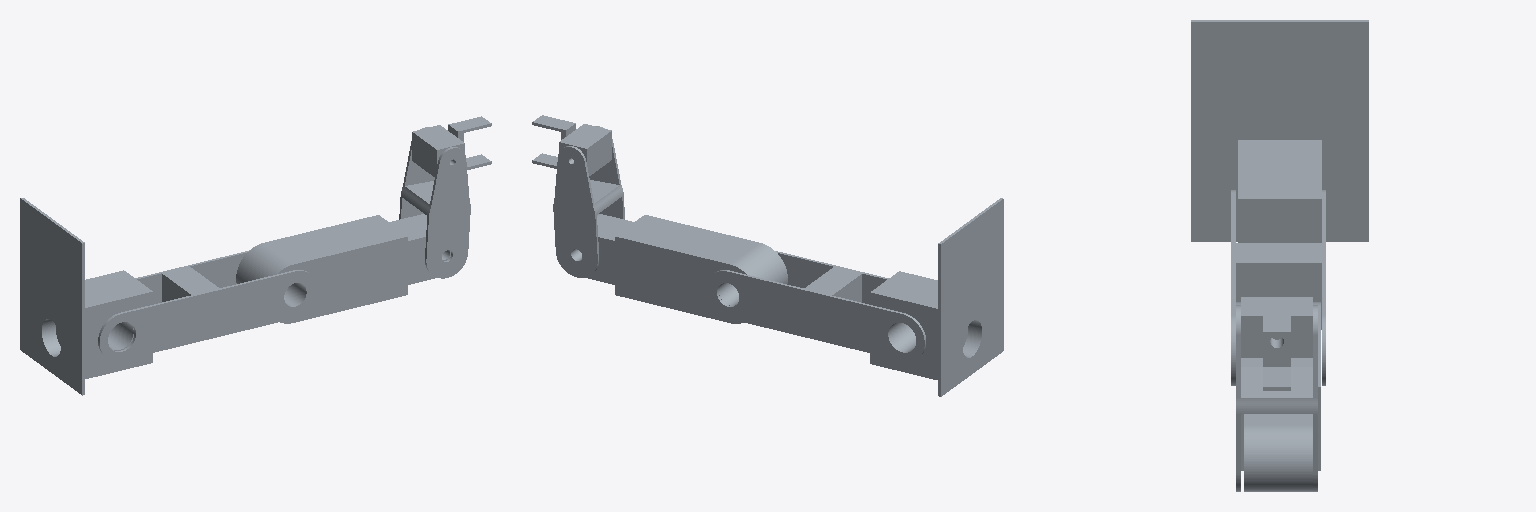
robot.urdf — Robot:
<?xml version="1.0" ?>
<robot name="Robot">
  <!--Generated by RobotCAD, a ROS Workbench for FreeCAD (https://github.com/drfenixion/freecad.robotcad)-->
  <link name="l_Claw001">
    <visual>
      <!--Claw001/Claw001.-->
      <origin rpy="3.141592653589793 0 -3.141592653589787" xyz="-0.674 0.009 0.0975"/>
      <geometry>
        <mesh filename="package://urdf_export/meshes/arm_cad_claw_d60vqu.dae"/>
      </geometry>
    </visual>
    <collision>
      <!--col__l_Claw001__col_Claw__BoundBox/col_Claw__BoundBox.-->
      <origin rpy="0 0 0" xyz="0.1245 0.1 0.1"/>
      <geometry>
        <box size="0.061 0.030000000000000013 0.07"/>
      </geometry>
    </collision>
  </link>
  <link name="l_Link006">
    <visual>
      <!--Link006/Link006.-->
      <origin rpy="-1.6032785969570524 1.5707963267948897 1.538314056632741" xyz="-0.0025 0.091 -0.768"/>
      <geometry>
        <mesh filename="package://urdf_export/meshes/arm_cad_link5_wauaem.dae"/>
      </geometry>
    </visual>
    <collision>
      <!--col__l_Link006__col_Link5__BoundBox/col_Link5__BoundBox.-->
      <origin rpy="3.141592653589793 0 0" xyz="0.0 0.0 -0.025"/>
      <geometry>
        <box size="0.078 0.05000000000000002 0.050000000000000114"/>
      </geometry>
    </collision>
  </link>
  <link name="l_Link008">
    <visual>
      <!--Link008/Link007.-->
      <origin rpy="3.141592653589793 0 0.06108652381981116" xyz="0.736059 0.136189 0.0365"/>
      <geometry>
        <mesh filename="package://urdf_export/meshes/arm_cad_link4_wqzhg2.dae"/>
      </geometry>
    </visual>
    <collision>
      <!--col__l_Link008__col_Link4__BoundBox/col_Link4__BoundBox.-->
      <origin rpy="1.5707963267948968 0 0" xyz="0.0855973 0.00744015 0.039"/>
      <geometry>
        <box size="0.21919360070894503 0.088 0.07941104040710273"/>
      </geometry>
    </collision>
  </link>
  <link name="l_Link010">
    <visual>
      <!--Link010/Link008.-->
      <origin rpy="3.1415926535897927 0 1.5707963267949039" xyz="-0.091 0.585 -0.0385"/>
      <geometry>
        <mesh filename="package://urdf_export/meshes/arm_cad_link3_m8x0cv.dae"/>
      </geometry>
    </visual>
    <collision>
      <!--col__l_Link010__col_Link3__BoundBox/col_Link3__BoundBox.-->
      <origin rpy="-1.5707963267948966 -1.570796326794896 0" xyz="0.0 0.0162571 -0.0375"/>
      <geometry>
        <box size="0.075 0.075 0.10748576151343571"/>
      </geometry>
    </collision>
  </link>
  <link name="l_Link012">
    <visual>
      <!--Link012/Link009.-->
      <origin rpy="-1.5375969808478827 1.57079632679489 -1.5375969808478827" xyz="0.001 -0.091 -0.515"/>
      <geometry>
        <mesh filename="package://urdf_export/meshes/arm_cad_link2_1eqjgf.dae"/>
      </geometry>
    </visual>
    <collision>
      <!--col__l_Link012__col_Link2__BoundBox/col_Link2__BoundBox.-->
      <origin rpy="3.141592653589787 0 0" xyz="0.0 0.0 -0.1275"/>
      <geometry>
        <box size="0.092 0.1 0.25500000000000034"/>
      </geometry>
    </collision>
  </link>
  <link name="l_Link014">
    <visual>
      <!--Link014/Link010.-->
      <origin rpy="-3.141592653589793 0 1.5707963267948963" xyz="-0.091 0.31 -0.0475"/>
      <geometry>
        <mesh filename="package://urdf_export/meshes/arm_cad_link1_kmxu8b.dae"/>
      </geometry>
    </visual>
    <collision>
      <!--col__l_Link014__col_Link1__BoundBox/col_Link1__BoundBox.-->
      <origin rpy="-1.570796326794897 -1.5707963267948966 0" xyz="0.0 0.155008 -0.04625"/>
      <geometry>
        <box size="0.1025 0.08 0.389984812280998"/>
      </geometry>
    </collision>
  </link>
  <link name="l_Link016">
    <visual>
      <!--Link016/Link011.-->
      <origin rpy="0 0 0" xyz="0.0 -0.091 -0.045"/>
      <geometry>
        <mesh filename="package://urdf_export/meshes/arm_cad_link0_hxjlaj.dae"/>
      </geometry>
    </visual>
    <collision>
      <!--col__l_Link016__col_Link0__BoundBox/col_Link0__BoundBox.-->
      <origin rpy="0 0 0" xyz="0.0 -0.0155 -0.045"/>
      <geometry>
        <box size="0.12200000000000003 0.151 0.09"/>
      </geometry>
    </collision>
  </link>
  <link name="l_Base001">
    <visual>
      <!--Base001/Base001.-->
      <origin rpy="1.5707963267948968 0 -3.141592653589793" xyz="0.0 0.0 0.0"/>
      <geometry>
        <mesh filename="package://urdf_export/meshes/arm_cad_base_l8pdmd.dae"/>
      </geometry>
    </visual>
    <collision>
      <!--col__l_Base001__col_Base__BoundBox/col_Base__BoundBox.-->
      <origin rpy="0 0 0" xyz="0.07 0.0 -0.0025"/>
      <geometry>
        <box size="0.26 0.192 0.005000000000000001"/>
      </geometry>
    </collision>
  </link>
  <joint name="l_Claw001__to__l_Link006" type="revolute">
    <parent link="l_Claw001"/>
    <child link="l_Link006"/>
    <origin rpy="-1.5707963267948966 0 -1.5707963267948963" xyz="0.094 0.1 0.1"/>
    <axis xyz="0 0 1"/>
    <limit effort="0.0" lower="0.0" upper="0.0" velocity="0.0"/>
  </joint>
  <joint name="l_Link006__to__l_Link008" type="revolute">
    <parent link="l_Link006"/>
    <child link="l_Link008"/>
    <origin rpy="-1.5707963267948966 0 1.5707963267948966" xyz="0.039 0.0 -0.025"/>
    <axis xyz="0 0 1"/>
    <limit effort="0.0" lower="0.0" upper="0.0" velocity="0.0"/>
  </joint>
  <joint name="l_Link008__to__l_Link010" type="revolute">
    <parent link="l_Link008"/>
    <child link="l_Link010"/>
    <origin rpy="0 0 0" xyz="0.157705 0.00964567 0.078"/>
    <axis xyz="0 0 1"/>
    <limit effort="0.0" lower="0.0" upper="0.0" velocity="0.0"/>
  </joint>
  <joint name="l_Link010__to__l_Link012" type="revolute">
    <parent link="l_Link010"/>
    <child link="l_Link012"/>
    <origin rpy="1.5707963267948966 -1.570796326794896 0" xyz="0.0 0.07 -0.0375"/>
    <axis xyz="0 0 1"/>
    <limit effort="0.0" lower="0.0" upper="0.0" velocity="0.0"/>
  </joint>
  <joint name="l_Link012__to__l_Link014" type="revolute">
    <parent link="l_Link012"/>
    <child link="l_Link014"/>
    <origin rpy="-1.570796326794897 0 1.5707963267948963" xyz="-0.046 0.0 -0.205"/>
    <axis xyz="0 0 1"/>
    <limit effort="0.0" lower="0.0" upper="0.0" velocity="0.0"/>
  </joint>
  <joint name="l_Link014__to__l_Link016" type="revolute">
    <parent link="l_Link014"/>
    <child link="l_Link016"/>
    <origin rpy="-3.141592653589793 0 0" xyz="0.0 0.31 -0.0925"/>
    <axis xyz="0 0 1"/>
    <limit effort="0.0" lower="0.0" upper="0.0" velocity="0.0"/>
  </joint>
  <joint name="l_Link016__to__l_Base001" type="revolute">
    <parent link="l_Link016"/>
    <child link="l_Base001"/>
    <origin rpy="-1.5707963267948974 0 0" xyz="0.0 -0.091 -0.045"/>
    <axis xyz="0 0 1"/>
    <limit effort="0.0" lower="0.0" upper="0.0" velocity="0.0"/>
  </joint>
</robot>

--- Facts derived from the render (not from the file) ---
Views: 3 orthographic renders of the robot side by side, from view 1: azimuth 30°, elevation 25°; view 2: azimuth 150°, elevation 25°; view 3: azimuth 270°, elevation 25°.
Robot: Robot — 8 links, 7 joints (7 revolute); root link l_Claw001; default pose: every joint at zero.
Visible links, largest first — view 1: l_Link014, l_Link012, l_Base001, l_Link008, l_Link016, l_Link006, l_Link010, l_Claw001; view 2: l_Link014, l_Link012, l_Base001, l_Link008, l_Link016, l_Link006, l_Link010, l_Claw001; view 3: l_Base001, l_Link016, l_Link014, l_Link010, l_Link008, l_Link006, l_Claw001, l_Link012.
Link boxes in pixels (bbox=[...]): l_Link014: bbox=[98, 250, 317, 360]; l_Link012: bbox=[236, 215, 407, 323]; l_Base001: bbox=[20, 198, 84, 395]; l_Link008: bbox=[399, 127, 470, 278]; l_Link016: bbox=[45, 270, 152, 378]; l_Link006: bbox=[412, 125, 464, 176]; l_Link010: bbox=[389, 214, 450, 284]; l_Claw001: bbox=[448, 116, 491, 169]; l_Link014: bbox=[706, 251, 925, 361]; l_Link012: bbox=[615, 215, 787, 323]; l_Base001: bbox=[938, 198, 1003, 396]; l_Link008: bbox=[553, 126, 624, 277]; l_Link016: bbox=[870, 271, 978, 379]; l_Link006: bbox=[559, 124, 611, 175]; l_Link010: bbox=[573, 214, 633, 284]; l_Claw001: bbox=[532, 115, 575, 168]; l_Base001: bbox=[1191, 20, 1368, 241]; l_Link016: bbox=[1238, 140, 1321, 242]; l_Link014: bbox=[1231, 190, 1325, 385]; l_Link010: bbox=[1244, 414, 1312, 491]; l_Link008: bbox=[1236, 305, 1317, 491]; l_Link006: bbox=[1241, 297, 1312, 357]; l_Claw001: bbox=[1263, 308, 1290, 390]; l_Link012: bbox=[1236, 302, 1320, 470].
Bounding box of the posed robot: 0.7766 × 0.192 × 0.261 m (x, y, z).
Meshes: 8 distinct files referenced, 8 mesh visuals loaded (8 Collada DAE).